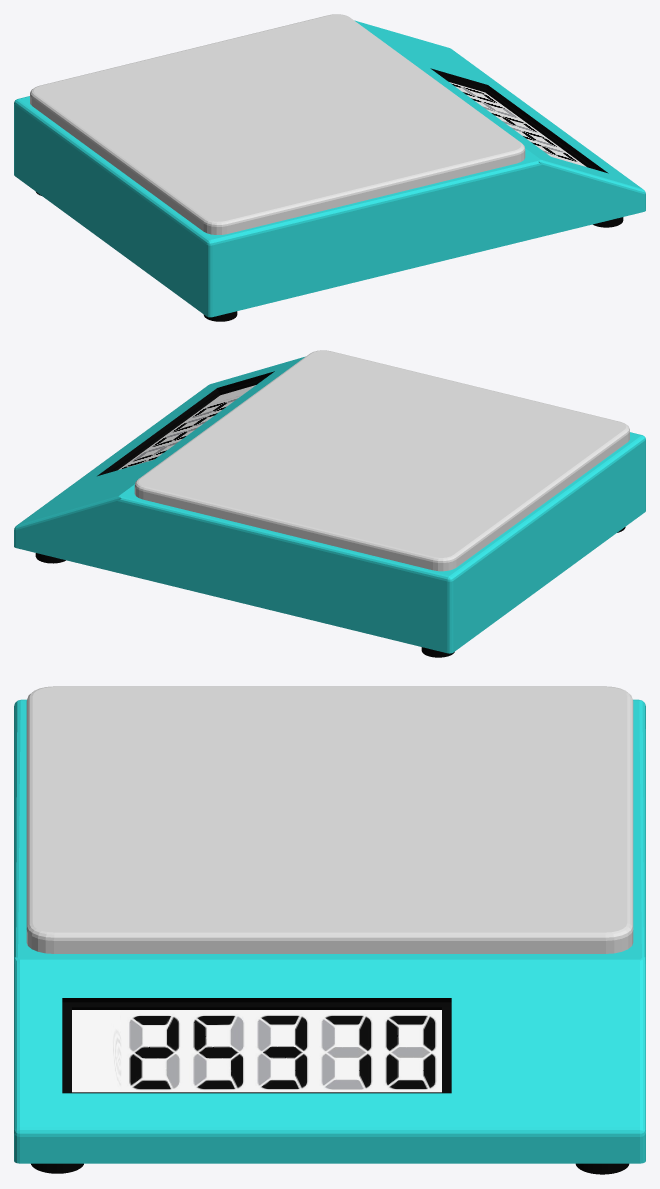
File: scaler.fbx
3 views of the same model, one above another, from view 1: azimuth 30°, elevation 25°; view 2: azimuth 150°, elevation 25°; view 3: azimuth 270°, elevation 25° (orthographic). The views are drawn at different scales.
Parts seen in each view (by area): view 1: plane, korpus, frame; view 2: plane, korpus, frame; view 3: plane, korpus, frame, 2.001, 5.001, 3, 0, 7, \, trotters.
Part boxes in pixels (x1=…): plane: x1=30, y1=14, x2=525, y2=234; korpus: x1=14, y1=20, x2=645, y2=317; frame: x1=430, y1=68, x2=608, y2=173; plane: x1=134, y1=350, x2=629, y2=571; korpus: x1=14, y1=356, x2=645, y2=653; frame: x1=97, y1=371, x2=274, y2=476; plane: x1=26, y1=686, x2=633, y2=953; korpus: x1=14, y1=699, x2=645, y2=1163; frame: x1=62, y1=998, x2=451, y2=1093; 2.001: x1=121, y1=1010, x2=185, y2=1092; 5.001: x1=185, y1=1010, x2=249, y2=1092; 3: x1=249, y1=1010, x2=313, y2=1092; 0: x1=378, y1=1010, x2=441, y2=1092; 7: x1=314, y1=1010, x2=377, y2=1092; \: x1=72, y1=1010, x2=121, y2=1092; trotters: x1=31, y1=1163, x2=629, y2=1174.
Bounding box in the file's own units: 601 × 131 × 466.
Materials: 14 (11 with a texture image).
